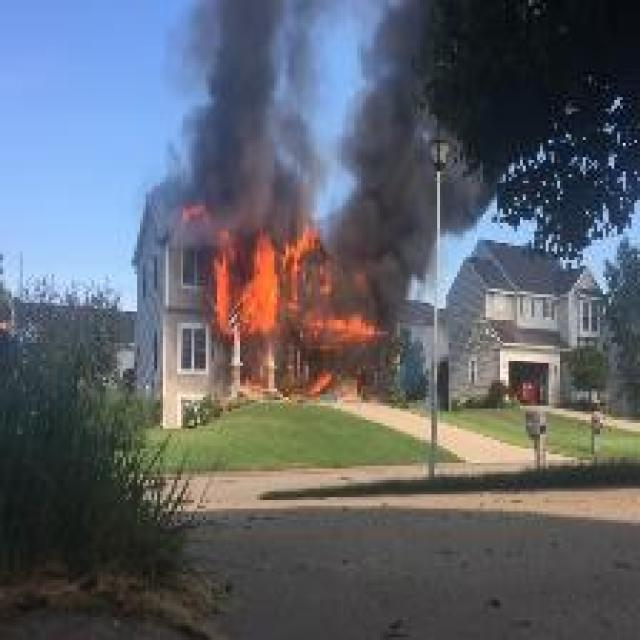fire: (175, 201, 400, 399)
smoke: (175, 2, 298, 222), (352, 57, 459, 276)
